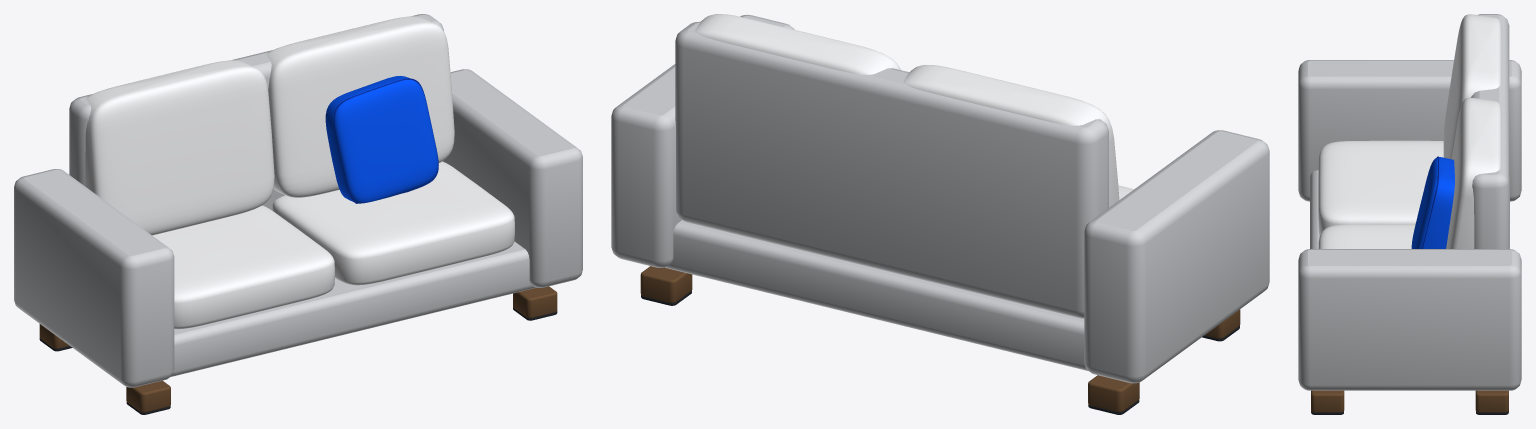
Rendered from 13-nodeworks-sofa.glb.
3 views of the same model, side by side, from view 1: azimuth 30°, elevation 25°; view 2: azimuth 150°, elevation 25°; view 3: azimuth 270°, elevation 25° (orthographic). The views are drawn at different scales.
Visible parts, largest first — view 1: left_back_cushion, left_padded_armrest, right_back_cushion, right_padded_armrest, right_seat_cushion, lower_upholstered_base, left_seat_cushion, blue_throw_pillow, rear_upholstered_support, right_front_wooden_foot, left_front_wooden_foot; view 2: rear_upholstered_support, left_padded_armrest, lower_upholstered_base, right_padded_armrest, left_back_cushion, right_back_cushion, right_rear_wooden_foot, left_rear_wooden_foot; view 3: right_padded_armrest, left_padded_armrest, left_seat_cushion, right_back_cushion, rear_upholstered_support, left_back_cushion, blue_throw_pillow, right_seat_cushion, lower_upholstered_base, right_front_wooden_foot, right_rear_wooden_foot.
Part boxes in pixels (left/top/right/bottom): left_back_cushion: left=85, top=60, right=274, bottom=235; left_padded_armrest: left=14, top=169, right=174, bottom=387; right_back_cushion: left=266, top=16, right=454, bottom=197; right_padded_armrest: left=443, top=69, right=582, bottom=287; right_seat_cushion: left=272, top=161, right=514, bottom=285; lower_upholstered_base: left=171, top=241, right=536, bottom=376; left_seat_cushion: left=152, top=205, right=334, bottom=329; blue_throw_pillow: left=325, top=76, right=438, bottom=203; rear_upholstered_support: left=69, top=14, right=443, bottom=210; right_front_wooden_foot: left=513, top=286, right=557, bottom=318; left_front_wooden_foot: left=126, top=380, right=170, bottom=412; rear_upholstered_support: left=675, top=21, right=1108, bottom=318; left_padded_armrest: left=1084, top=130, right=1269, bottom=383; lower_upholstered_base: left=665, top=220, right=1088, bottom=370; right_padded_armrest: left=611, top=14, right=794, bottom=267; left_back_cushion: left=903, top=65, right=1119, bottom=207; right_back_cushion: left=695, top=14, right=900, bottom=74; right_rear_wooden_foot: left=640, top=266, right=692, bottom=302; left_rear_wooden_foot: left=1088, top=375, right=1139, bottom=412; right_padded_armrest: left=1298, top=249, right=1521, bottom=390; left_padded_armrest: left=1298, top=60, right=1521, bottom=201; left_seat_cushion: left=1318, top=140, right=1443, bottom=236; right_back_cushion: left=1446, top=97, right=1501, bottom=248; rear_upholstered_support: left=1471, top=14, right=1509, bottom=248; left_back_cushion: left=1443, top=14, right=1501, bottom=159; blue_throw_pillow: left=1411, top=157, right=1454, bottom=248; right_seat_cushion: left=1318, top=224, right=1415, bottom=248; lower_upholstered_base: left=1310, top=170, right=1509, bottom=248; right_front_wooden_foot: left=1311, top=390, right=1344, bottom=412; right_rear_wooden_foot: left=1475, top=390, right=1508, bottom=412.
Bounding box in the file's own units: 1.99 × 1.01 × 0.88.
